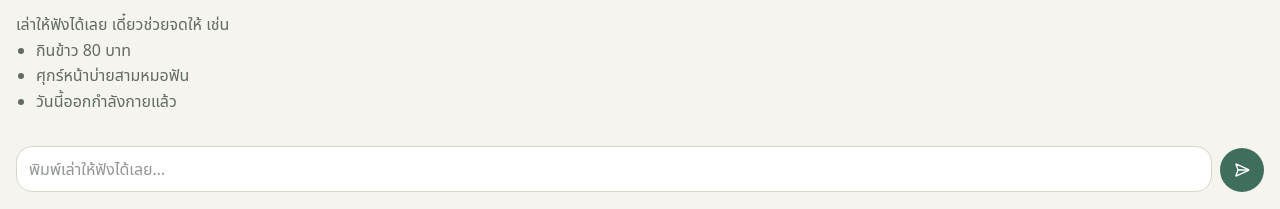
Scenario: 503 shows the server notice and restores the text
expect the list is shown: met, box [16,13,229,112]
Step 1. Type "ซื้อนม" into the text box labelled "พิมพ์เล่าให้ฟังได้เลย…" → (614, 169), box [16,146,1212,192]
Then press Enter
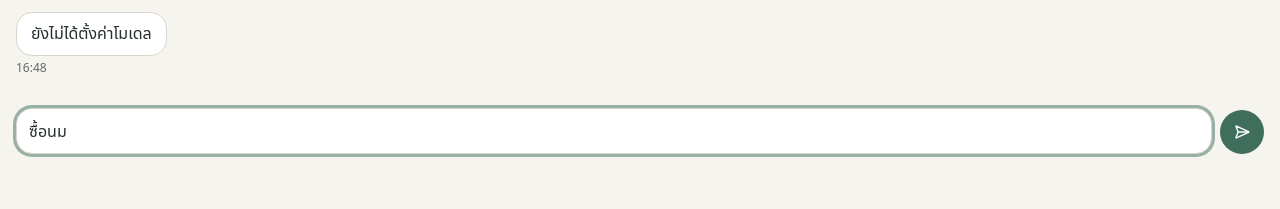
expect the text "ยังไม่ได้ตั้งค่าโมเดล" is shown: met, box [16,12,167,56]
